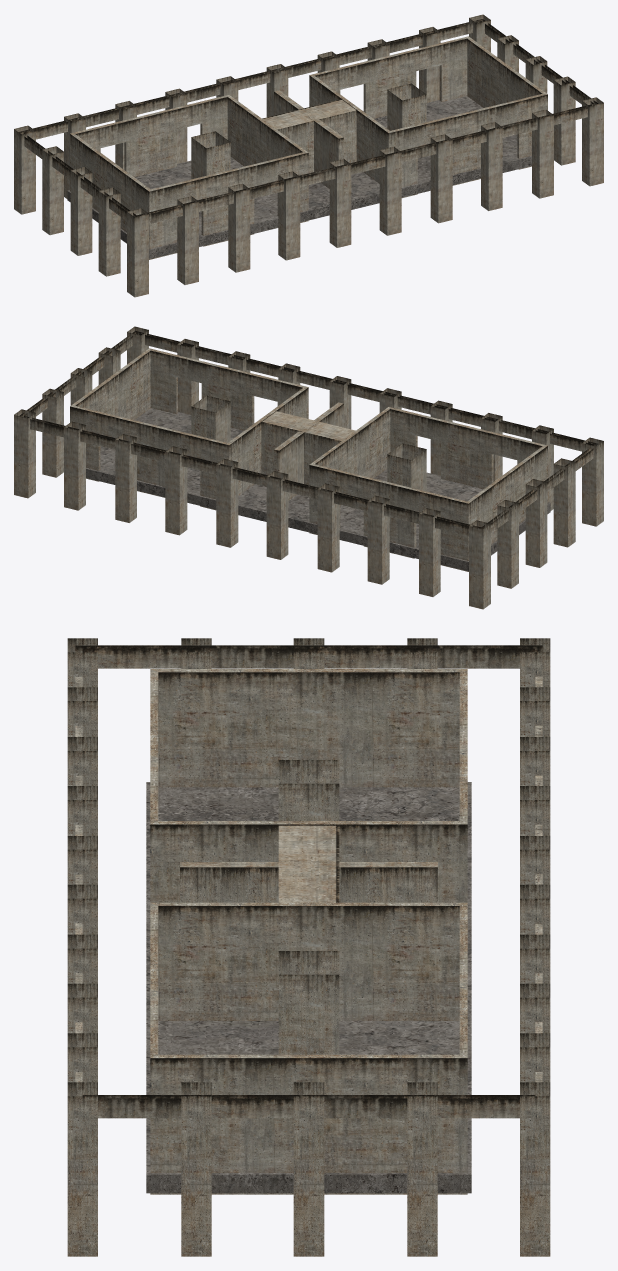
Rendered from Build6A_el1_LOD1.fbx.
The picture shows the model from 3 angles, top to bottom: view 1: azimuth 30°, elevation 25°; view 2: azimuth 150°, elevation 25°; view 3: azimuth 270°, elevation 25°; orthographic projection. The views are drawn at different scales.
Parts seen in each view (by area): view 1: polySurface434; view 2: polySurface434; view 3: polySurface434.
Boxes of the visible parts, <box> form: polySurface434: <box>14,14,603,297</box>; polySurface434: <box>14,326,603,609</box>; polySurface434: <box>67,638,550,1256</box>.
Size of the model in its own units: 43.12 by 7.21 by 19.21.
